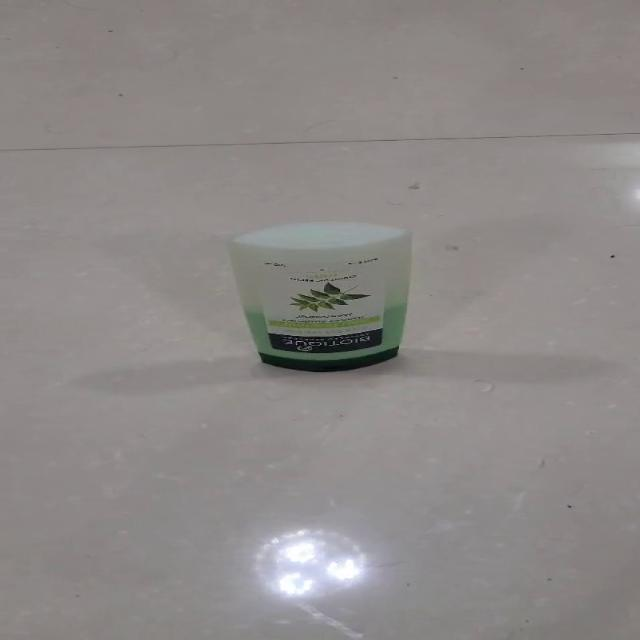plastic: (226, 219, 412, 372)
